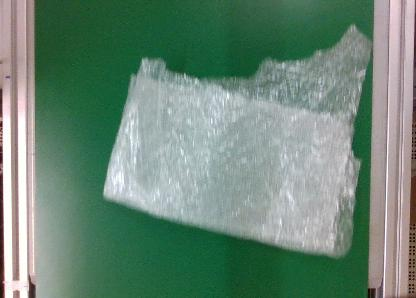Others: (96, 19, 372, 261)
